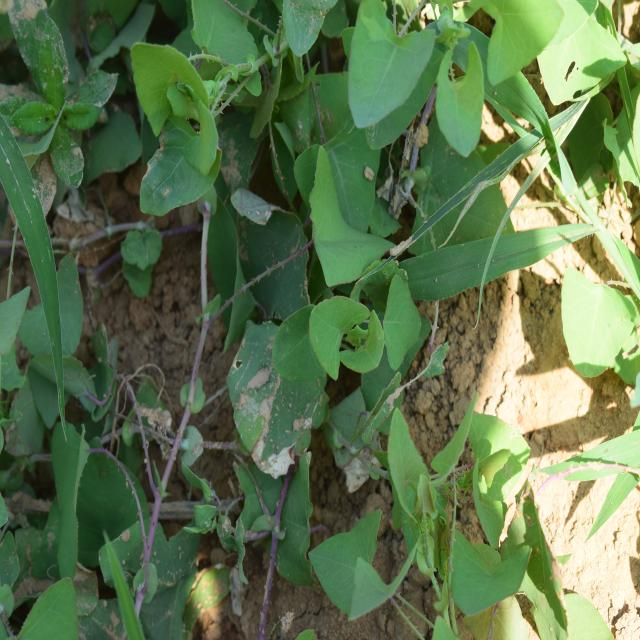Asiatic_Smartweed: (332, 404, 563, 637), (143, 3, 350, 230), (337, 0, 564, 160), (268, 247, 414, 431)
